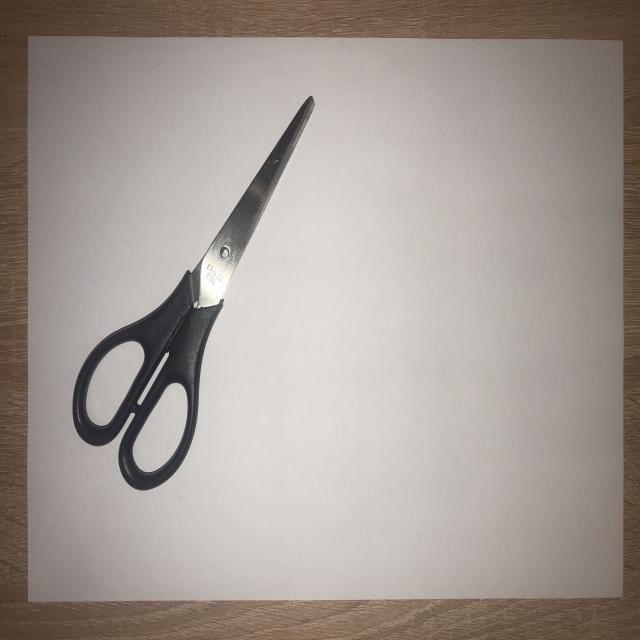scissors: (65, 90, 322, 502)
